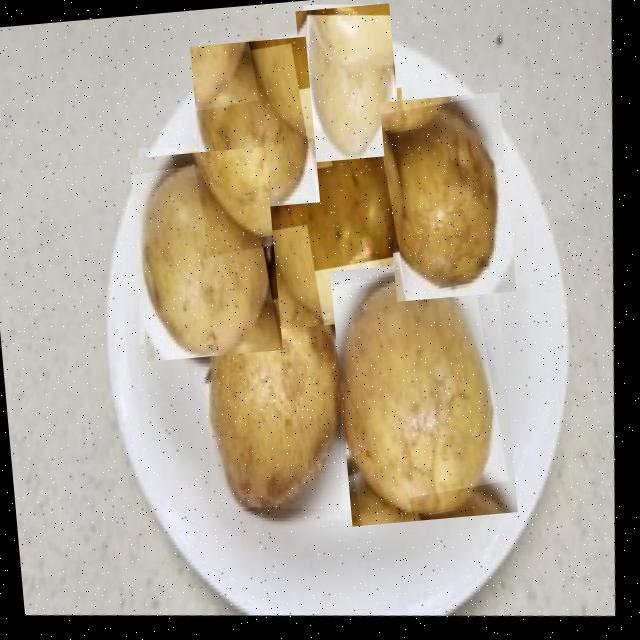Potato: (330, 256, 518, 526), (197, 247, 366, 524), (248, 87, 421, 330), (130, 146, 282, 361), (379, 91, 516, 302), (190, 36, 320, 212), (295, 2, 402, 162)
